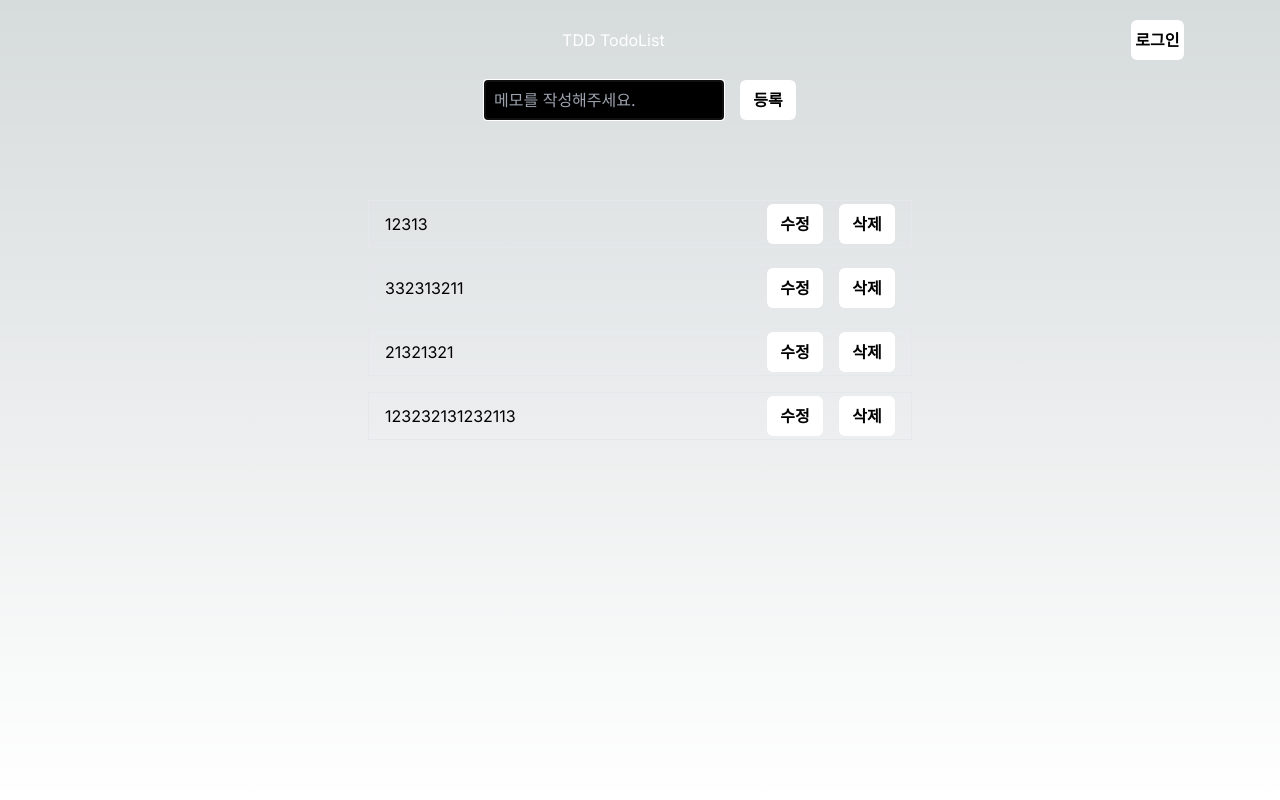
Scenario: Todo App e2e테스트 › Todo를 추가하고 현재 todo 목록에 추가되었는지 확인합니다.
Type "New Todo" into the field with test id "todo-input" at [604, 100], box top-left (484, 80), bottom-right (724, 120)
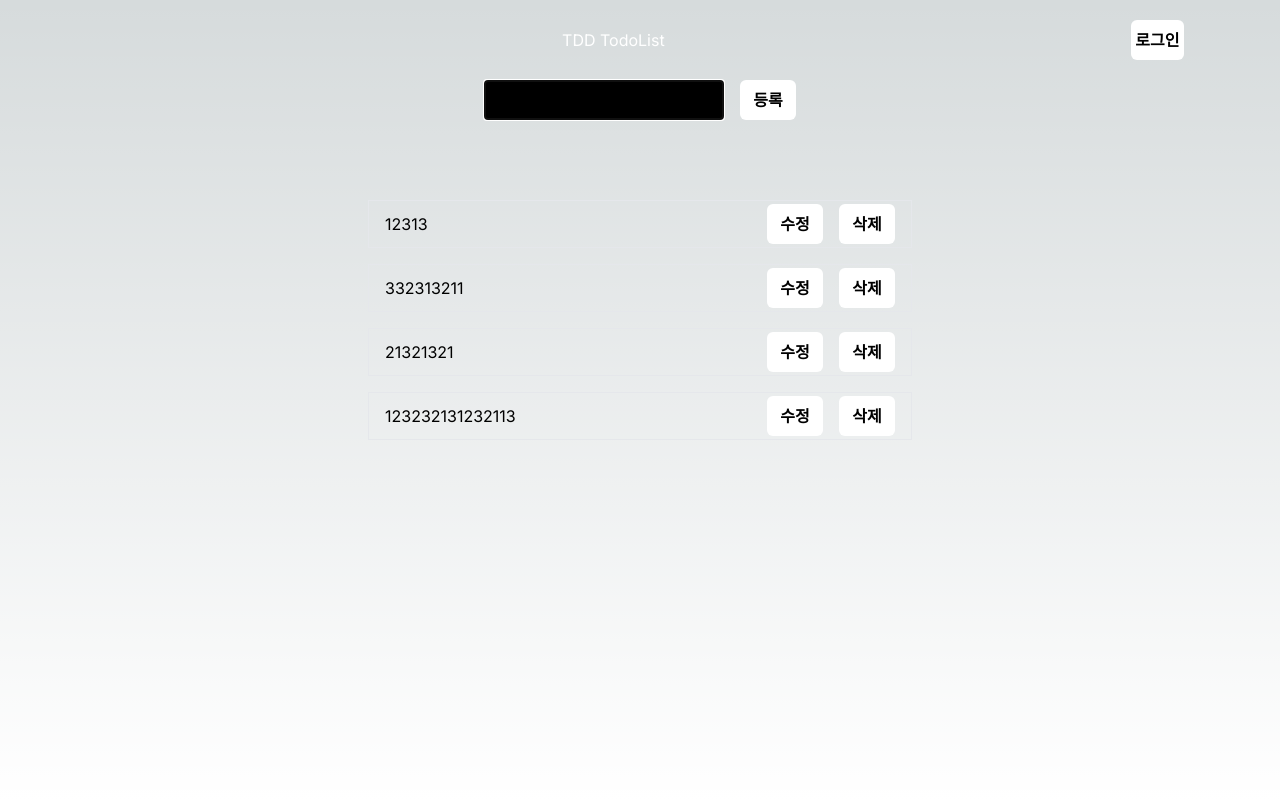
Click the button with test id "add-todo-button" at [768, 100], box top-left (740, 80), bottom-right (796, 120)
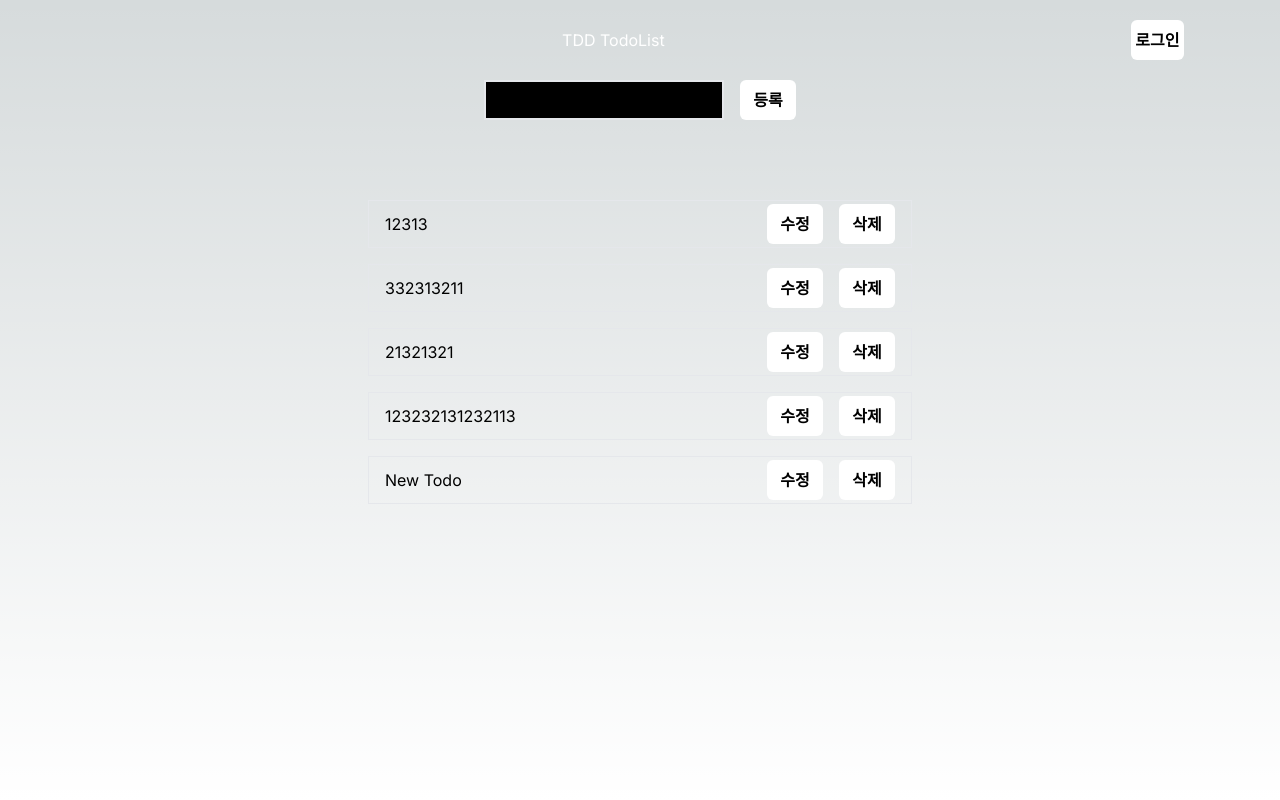
Expected: the text "New Todo" is shown, top-left (385, 468), bottom-right (462, 492)
